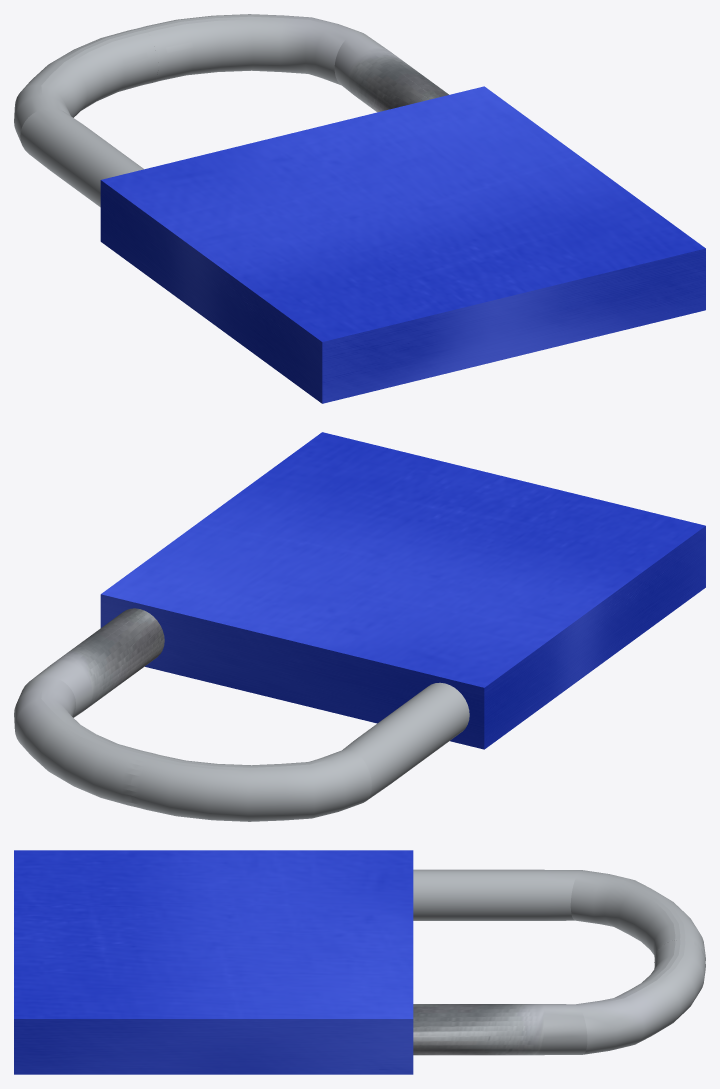
File: lock_blue.fbx
3 renders of one model, top to bottom at view 1: azimuth 30°, elevation 25°; view 2: azimuth 150°, elevation 25°; view 3: azimuth 270°, elevation 25°, orthographic. The views are drawn at different scales.
Visible parts, largest first — view 1: Cube, Cylinder.002; view 2: Cube, Cylinder.002; view 3: Cube, Cylinder.002.
Boxes of the visible parts, x1=… form: Cube: x1=100, y1=86, x2=705, y2=403; Cylinder.002: x1=14, y1=14, x2=448, y2=207; Cube: x1=100, y1=432, x2=705, y2=749; Cylinder.002: x1=14, y1=608, x2=469, y2=821; Cube: x1=14, y1=850, x2=413, y2=1074; Cylinder.002: x1=413, y1=869, x2=705, y2=1055.
Bounding box in the file's own units: 312 × 48 × 541.
